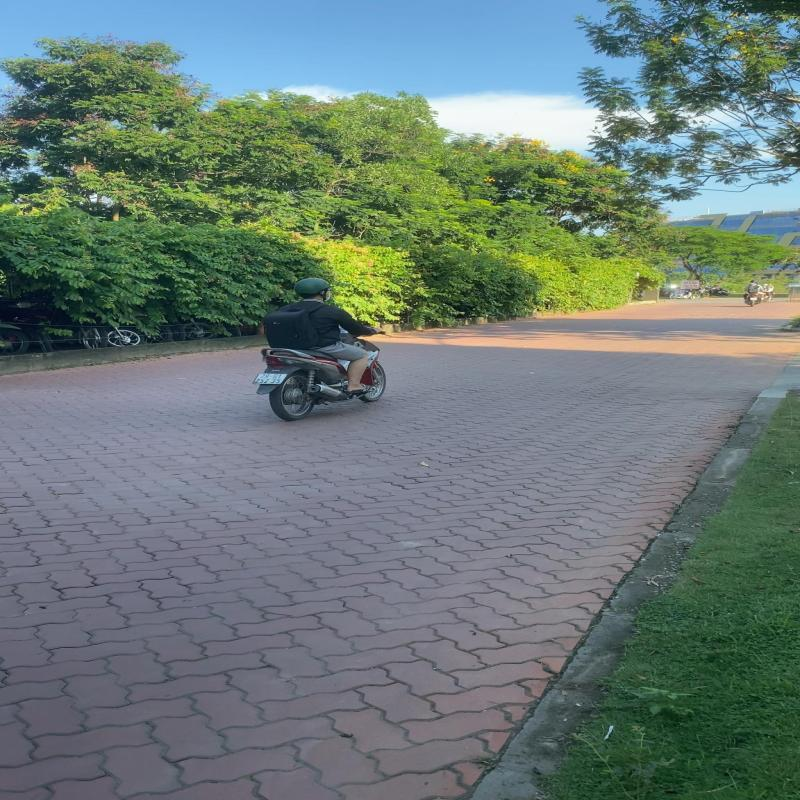helmet: (293, 278, 336, 301)
licenseplate: (253, 372, 289, 386)
motorcyclist: (251, 276, 392, 426)
